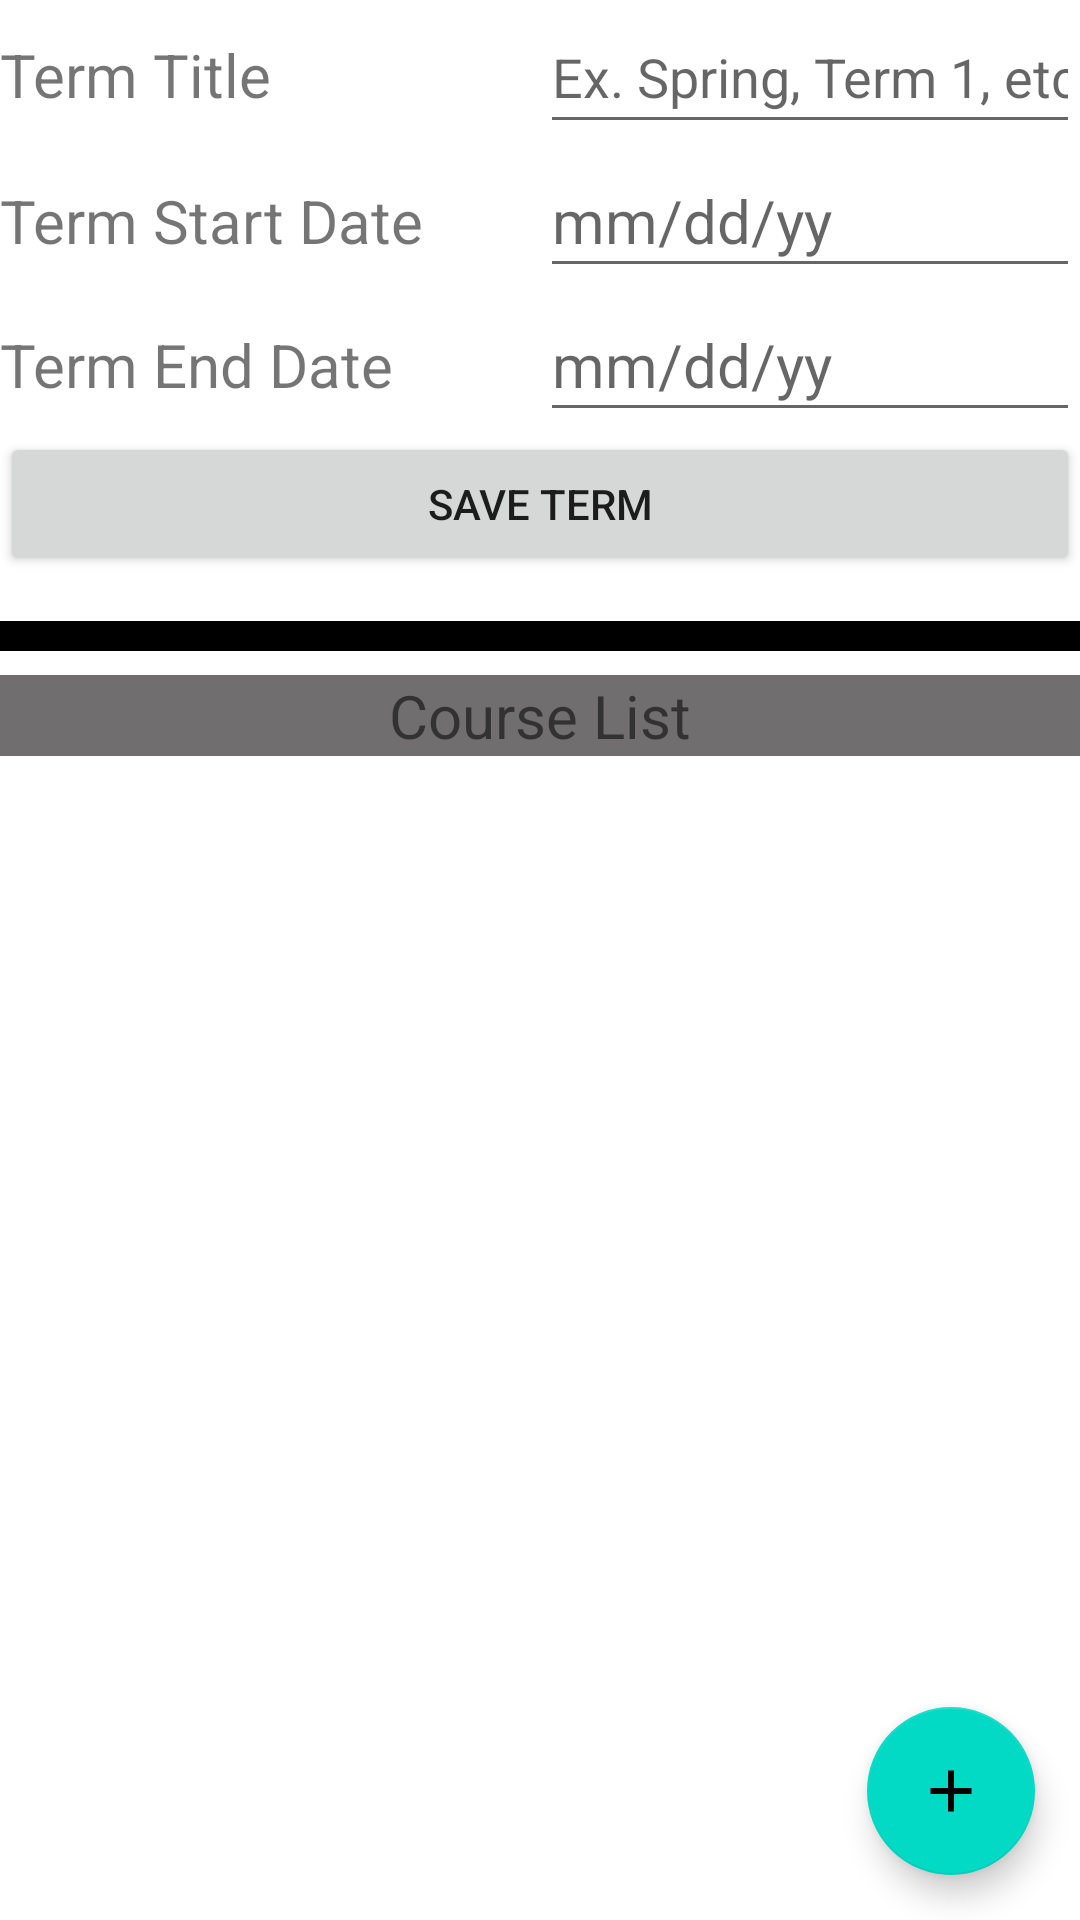

Named icons in this screenshot (1080 × 1920) and their centers, point (x, y):
Add New Course: point (951, 1791)
